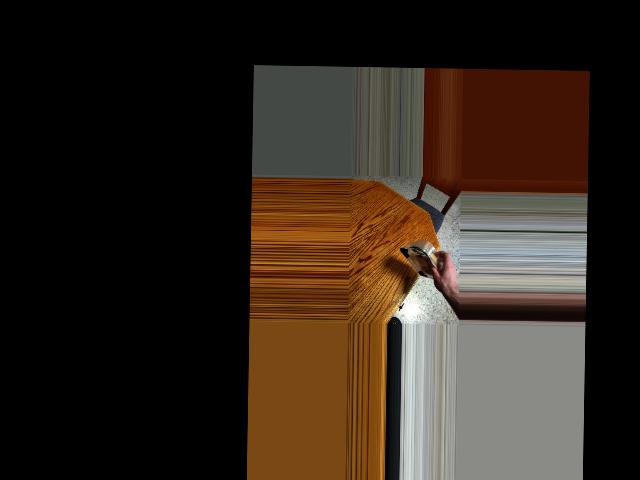cheese: (399, 232, 441, 290)
